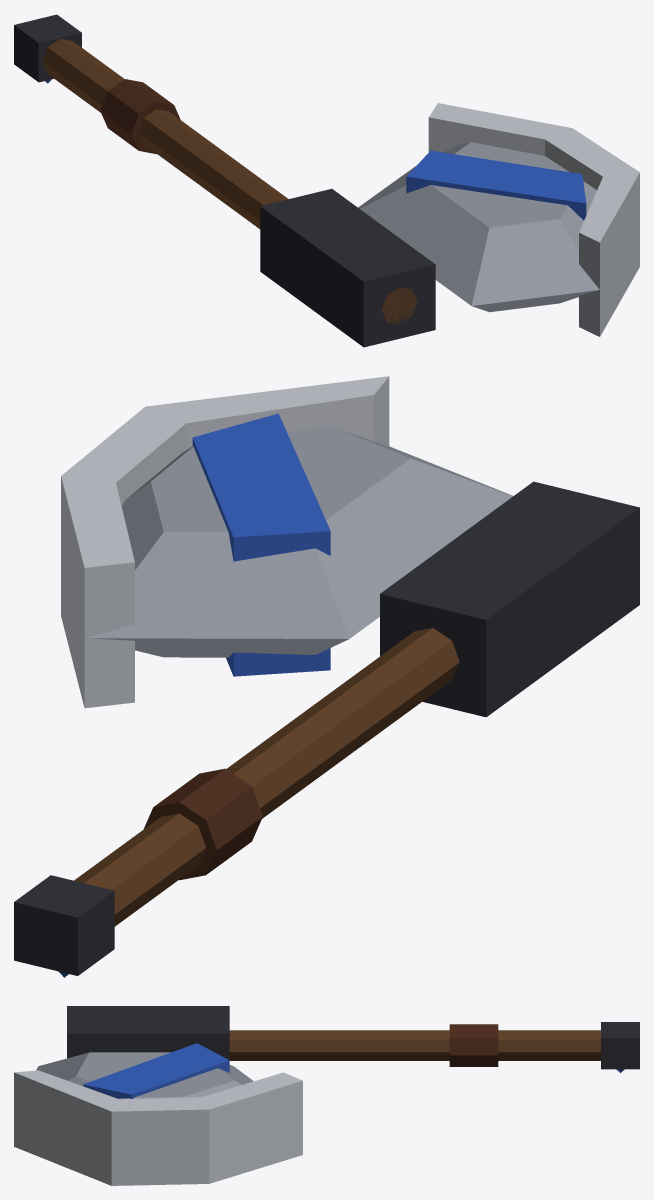
The model's file is 20_Throwing_Axe.glb.
3 renders of one model, top to bottom at view 1: azimuth 30°, elevation 25°; view 2: azimuth 150°, elevation 25°; view 3: azimuth 270°, elevation 25°, orthographic. The views are drawn at different scales.
Parts seen in each view (by area): view 1: 20_Throwing_Axe; view 2: 20_Throwing_Axe; view 3: 20_Throwing_Axe.
Part boxes in pixels (x1,y1,x2,y2): 20_Throwing_Axe: (14,14,639,347); 20_Throwing_Axe: (14,376,639,977); 20_Throwing_Axe: (14,1006,639,1185).
Size of the model in its own units: 0.34 by 0.1008 by 0.769.
